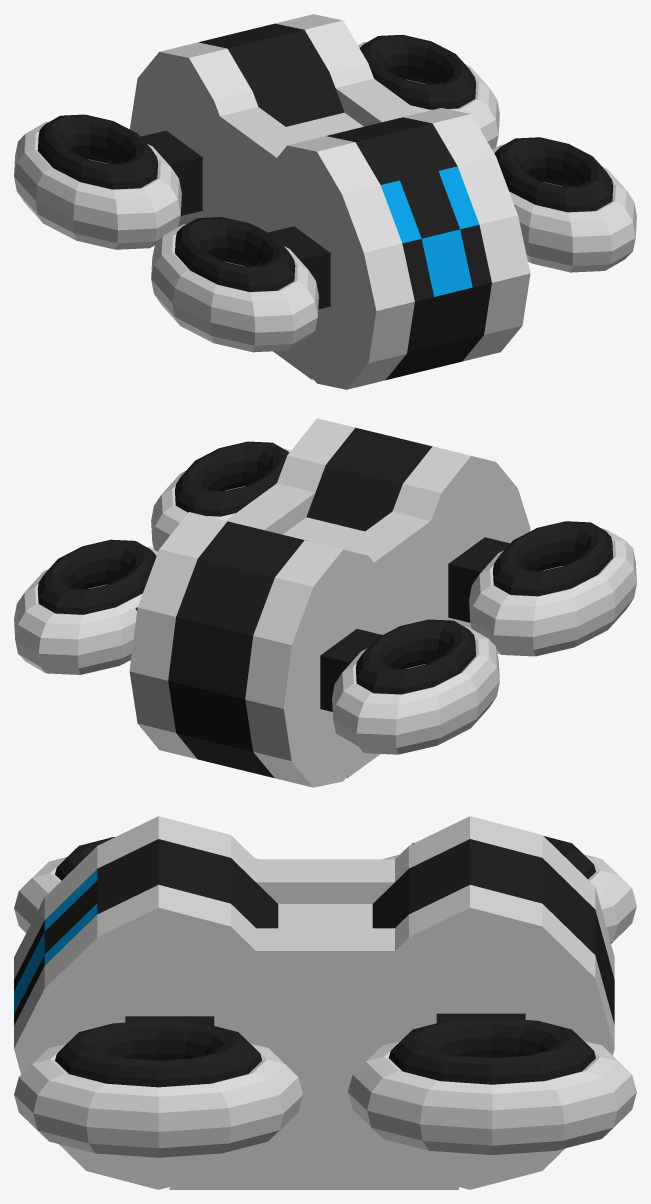
The model's file is Little Drone.glb.
3 views of the same model, one above another, from view 1: azimuth 30°, elevation 25°; view 2: azimuth 150°, elevation 25°; view 3: azimuth 270°, elevation 25° (orthographic). The views are drawn at different scales.
Size of the model in its own units: 0.12 by 0.06 by 0.12.
